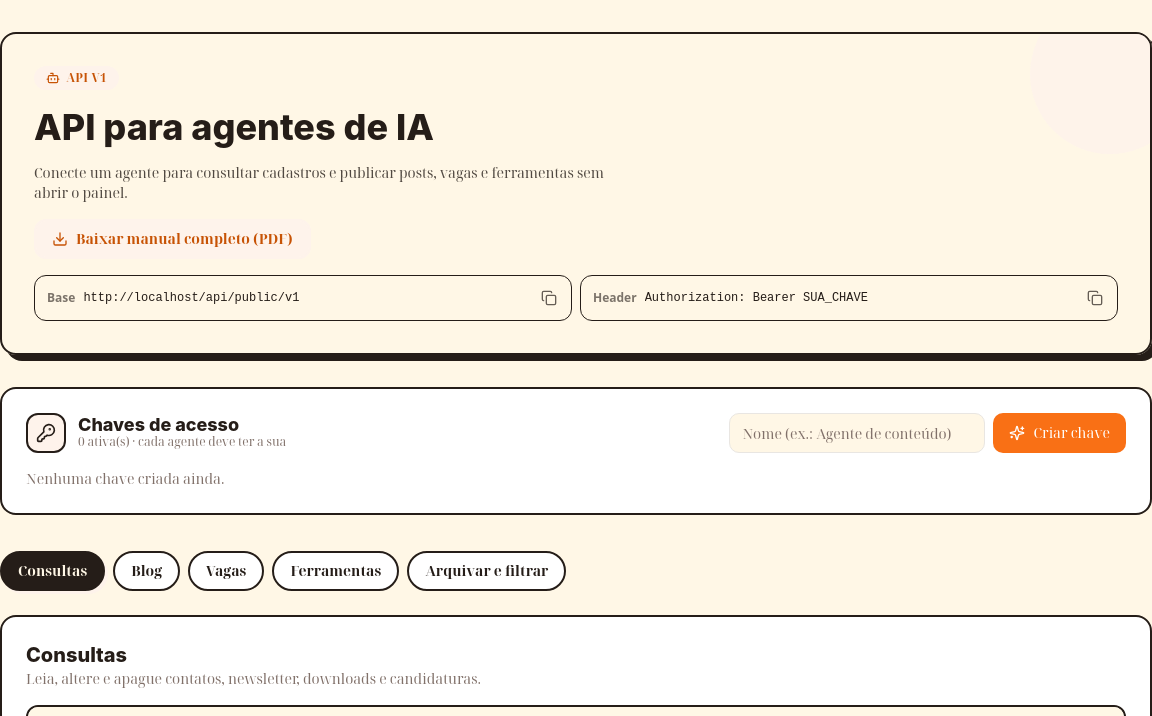
Scenario: Manual da API — abas › aba Arquivar e filtrar mostra seus endpoints
Click the tab "Arquivar e filtrar": (487, 571) [407,551,566,591]
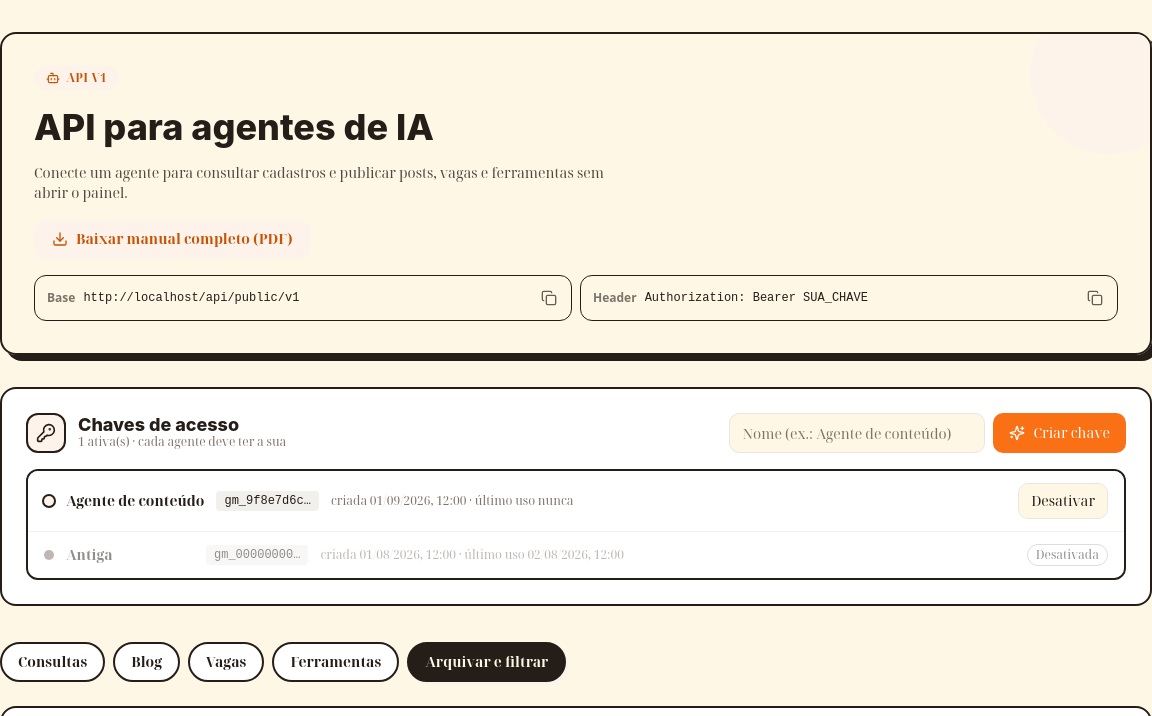
Now the tab "Arquivar e filtrar" is selected, box [407,642,566,682]
Now the tab "Arquivar e filtrar" has attribute tabindex="0", box [407,642,566,682]
Now the tab "Consultas" has attribute tabindex="-1", box [0,642,105,682]
